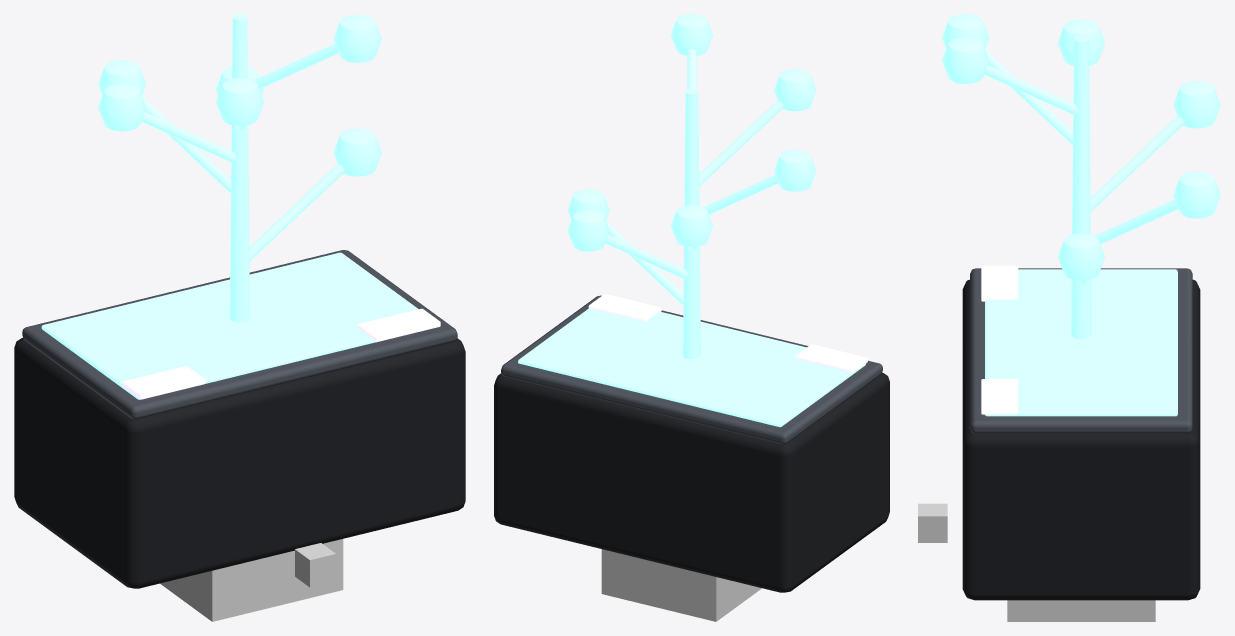
The model's file is HoloTerminal.fbx.
3 renders of one model, left to right at view 1: azimuth 30°, elevation 25°; view 2: azimuth 150°, elevation 25°; view 3: azimuth 270°, elevation 25°, orthographic. The views are drawn at different scales.
Visible parts, largest first — view 1: Body__Black, Projector__NeonCyan, Holo__NeonCyan, Body__MetalDark, Origin__Pivot, Body__NeonPurple, Origin__AxisZ; view 2: Body__Black, Projector__NeonCyan, Holo__NeonCyan, Body__MetalDark, Origin__Pivot, Body__NeonPurple; view 3: Body__Black, Projector__NeonCyan, Holo__NeonCyan, Body__MetalDark, Origin__Pivot, Body__NeonPurple, Origin__AxisZ.
Part boxes in pixels (x1=…): Body__Black: x1=14, y1=338, x2=465, y2=588; Projector__NeonCyan: x1=41, y1=252, x2=418, y2=399; Holo__NeonCyan: x1=98, y1=14, x2=381, y2=322; Body__MetalDark: x1=22, y1=250, x2=457, y2=419; Origin__Pivot: x1=160, y1=539, x2=343, y2=621; Body__NeonPurple: x1=122, y1=308, x2=440, y2=399; Origin__AxisZ: x1=295, y1=543, x2=335, y2=587; Body__Black: x1=494, y1=372, x2=889, y2=592; Projector__NeonCyan: x1=518, y1=308, x2=865, y2=427; Holo__NeonCyan: x1=567, y1=14, x2=816, y2=359; Body__MetalDark: x1=501, y1=295, x2=882, y2=444; Origin__Pivot: x1=601, y1=549, x2=761, y2=621; Body__NeonPurple: x1=588, y1=294, x2=867, y2=372; Body__Black: x1=962, y1=279, x2=1200, y2=600; Projector__NeonCyan: x1=985, y1=269, x2=1177, y2=416; Holo__NeonCyan: x1=942, y1=14, x2=1220, y2=339; Body__MetalDark: x1=970, y1=268, x2=1192, y2=433; Origin__Pivot: x1=1007, y1=600, x2=1155, y2=621; Body__NeonPurple: x1=981, y1=266, x2=1018, y2=414; Origin__AxisZ: x1=918, y1=503, x2=947, y2=542.
Bounding box in the file's own units: 2.6 × 4.31 × 2.04.
